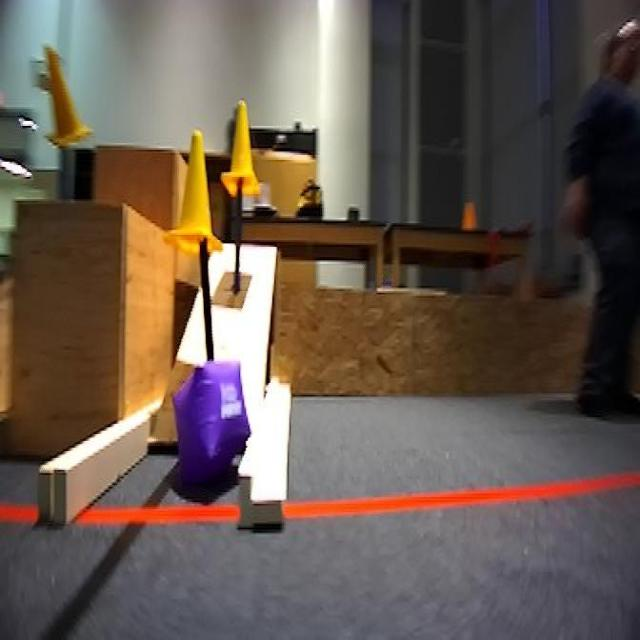frc_cone: (166, 126, 223, 255), (41, 42, 92, 150), (221, 102, 263, 196)
frc_cube: (175, 359, 252, 490)
